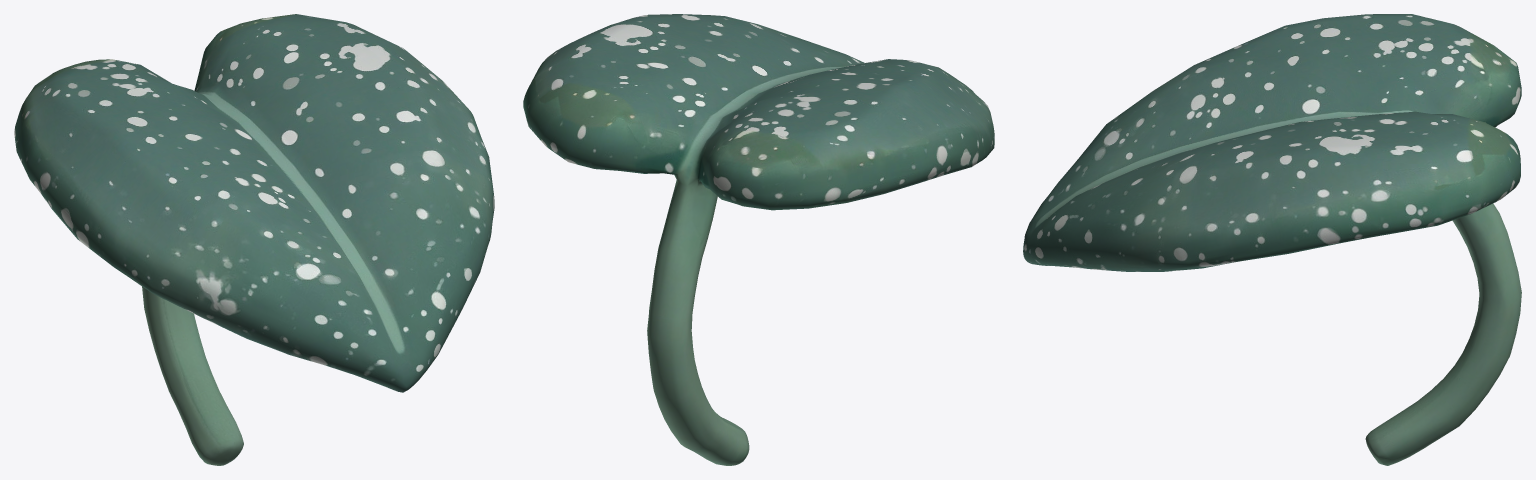
The model's file is heart_speckle_2657.glb.
3 views of the same model, side by side, from view 1: azimuth 30°, elevation 25°; view 2: azimuth 150°, elevation 25°; view 3: azimuth 270°, elevation 25° (orthographic). The views are drawn at different scales.
Size of the model in its own units: 1.79 by 1.69 by 2.
1 material, 1 textured.
